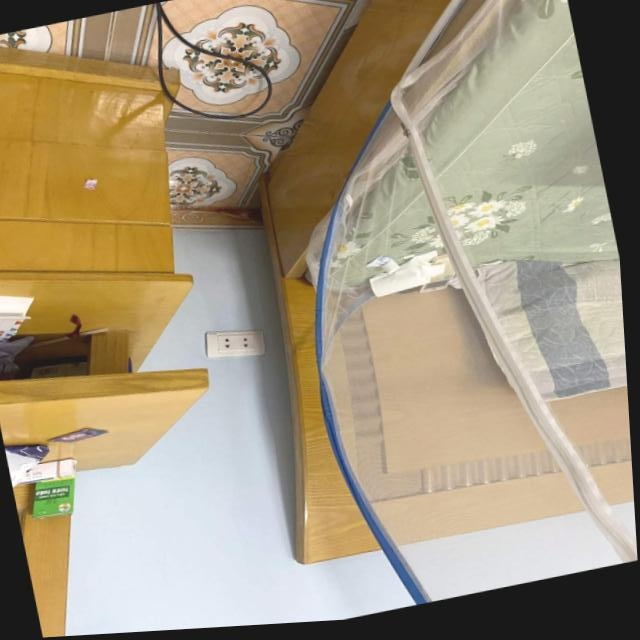outlet: (201, 321, 268, 367)
